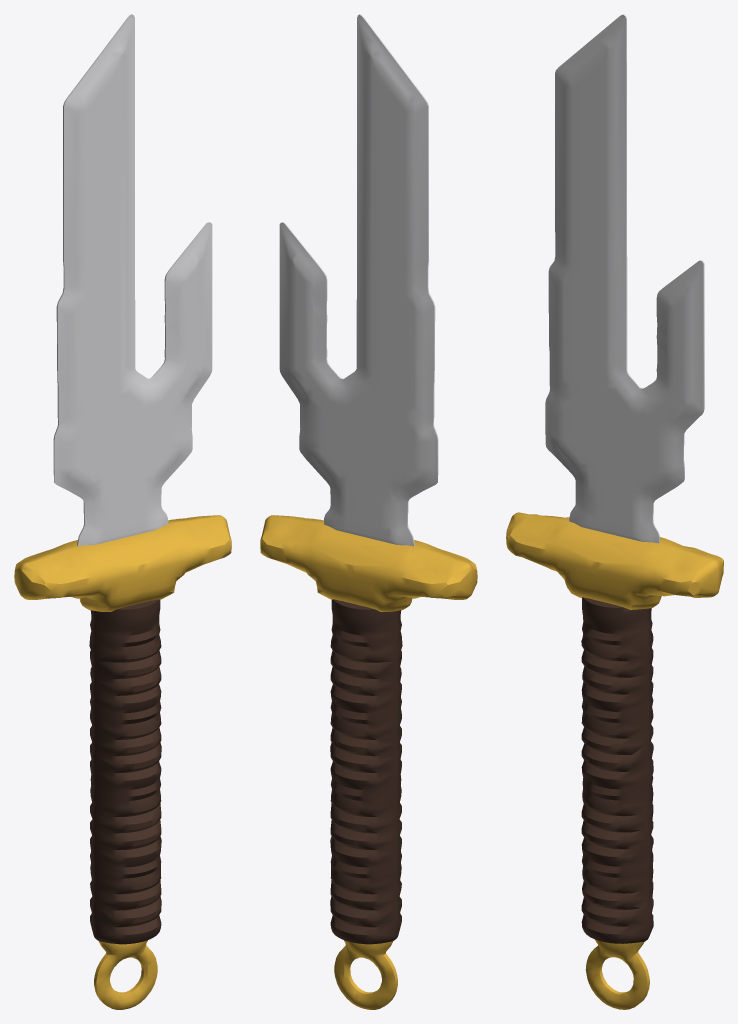
File: Inversion.glb
The picture shows the model from 3 angles, left to right: view 1: azimuth 30°, elevation 25°; view 2: azimuth 150°, elevation 25°; view 3: azimuth 330°, elevation 25°; orthographic projection.
Parts seen in each view (by area): view 1: Inversion_Blade, Inversion_Grip, Inversion_Guard, Inversion_Pommel; view 2: Inversion_Blade, Inversion_Grip, Inversion_Guard, Inversion_Pommel; view 3: Inversion_Blade, Inversion_Grip, Inversion_Guard, Inversion_Pommel.
Part boxes in pixels (x1,y1,x2,y2): Inversion_Blade: (53,14,212,546); Inversion_Grip: (89,599,161,944); Inversion_Guard: (14,515,231,611); Inversion_Pommel: (94,940,157,1009); Inversion_Blade: (279,14,438,546); Inversion_Grip: (330,599,402,944); Inversion_Guard: (260,515,477,611); Inversion_Pommel: (334,940,397,1009); Inversion_Blade: (545,14,704,543); Inversion_Grip: (581,597,653,943); Inversion_Guard: (506,512,723,609); Inversion_Pommel: (585,939,649,1009).
Size of the model in its own units: 1.09 by 5 by 0.3551.
